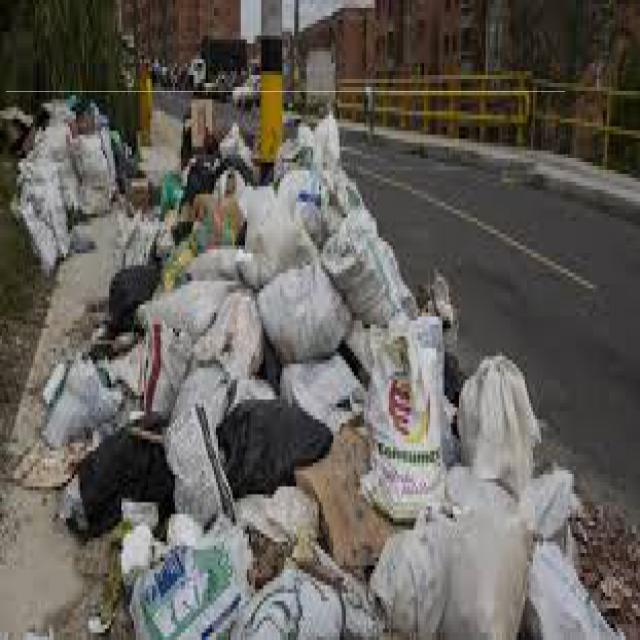Trashbag: (71, 426, 176, 522), (220, 401, 328, 482), (94, 266, 157, 318)
